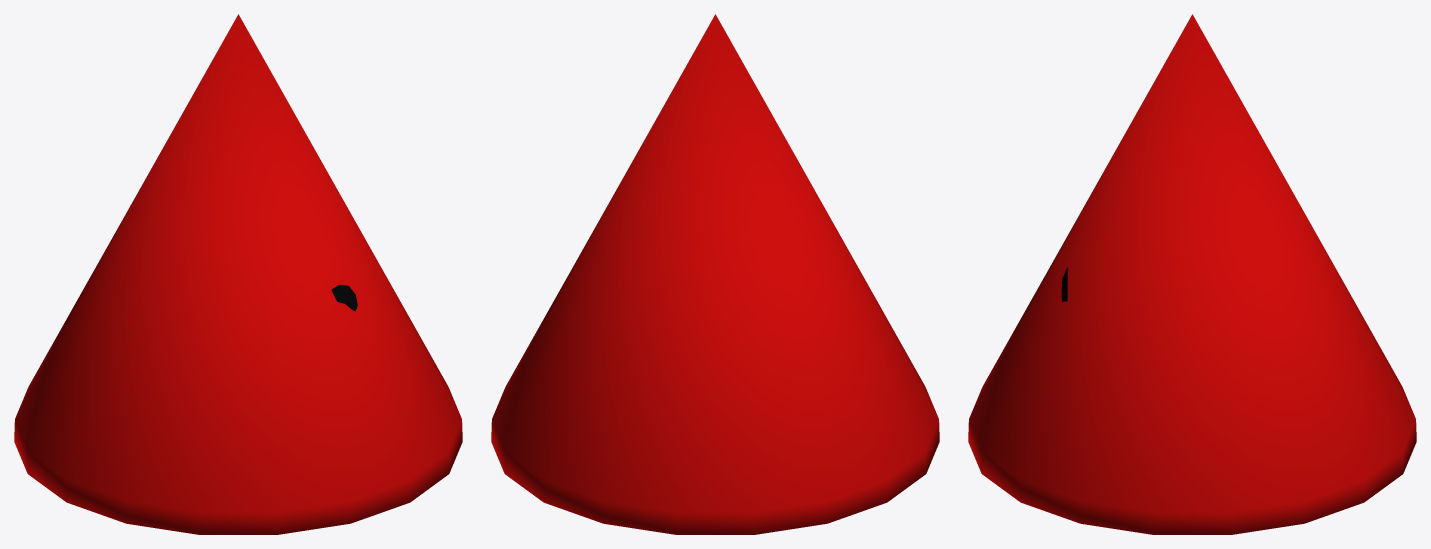
The model's file is coneJelly.fbx.
The picture shows the model from 3 angles, left to right: view 1: azimuth 30°, elevation 25°; view 2: azimuth 150°, elevation 25°; view 3: azimuth 270°, elevation 25°; orthographic projection.
Parts seen in each view (by area): view 1: coneJelly; view 2: coneJelly; view 3: coneJelly.
Part boxes in pixels (left/top/right/bottom): coneJelly: left=14, top=14, right=462, bottom=534; coneJelly: left=491, top=14, right=939, bottom=534; coneJelly: left=968, top=14, right=1416, bottom=534.
Size of the model in its own units: 62.44 by 61.49 by 67.1.
